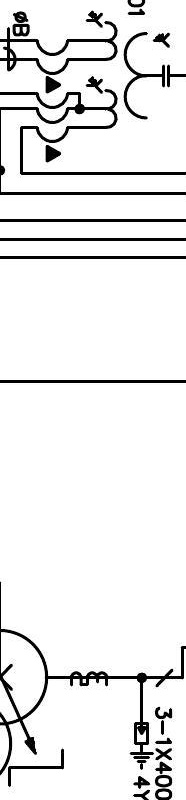115_cvt_3p: (85, 10, 170, 130)
115_la: (129, 722, 155, 771)
